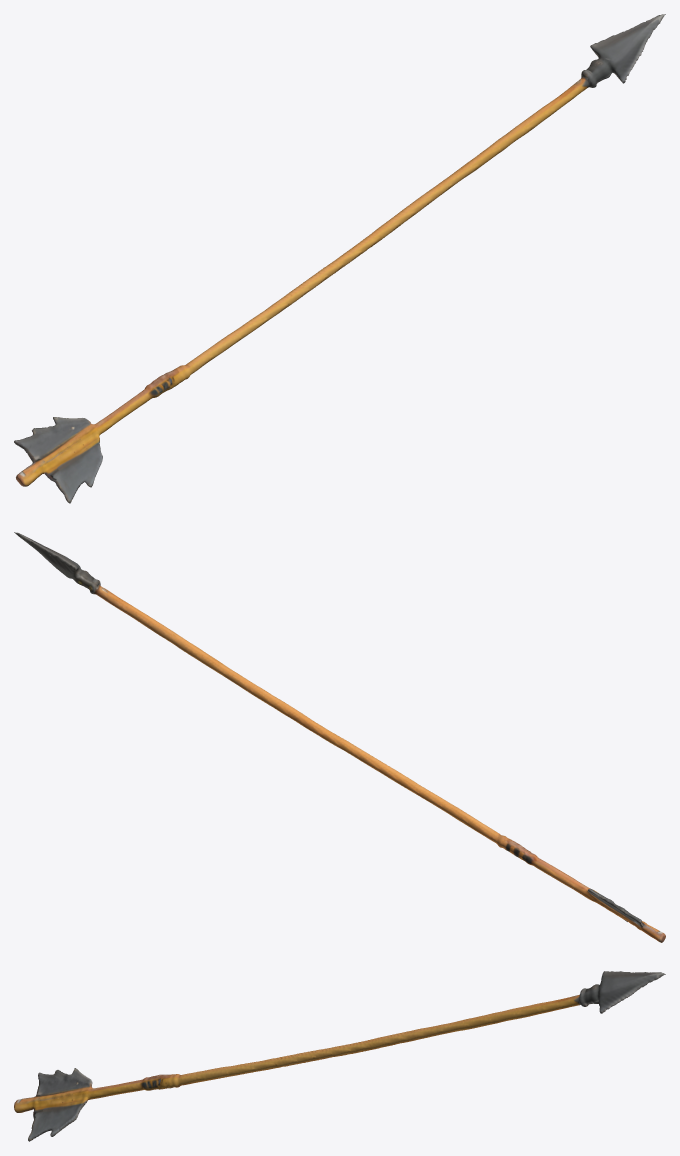
3 views of the same model, one above another, from view 1: azimuth 30°, elevation 25°; view 2: azimuth 150°, elevation 25°; view 3: azimuth 330°, elevation 25° (orthographic). The views are drawn at different scales.
Size of the model in its own units: 2 by 0.8688 by 0.2423.
1 material, 1 textured.
